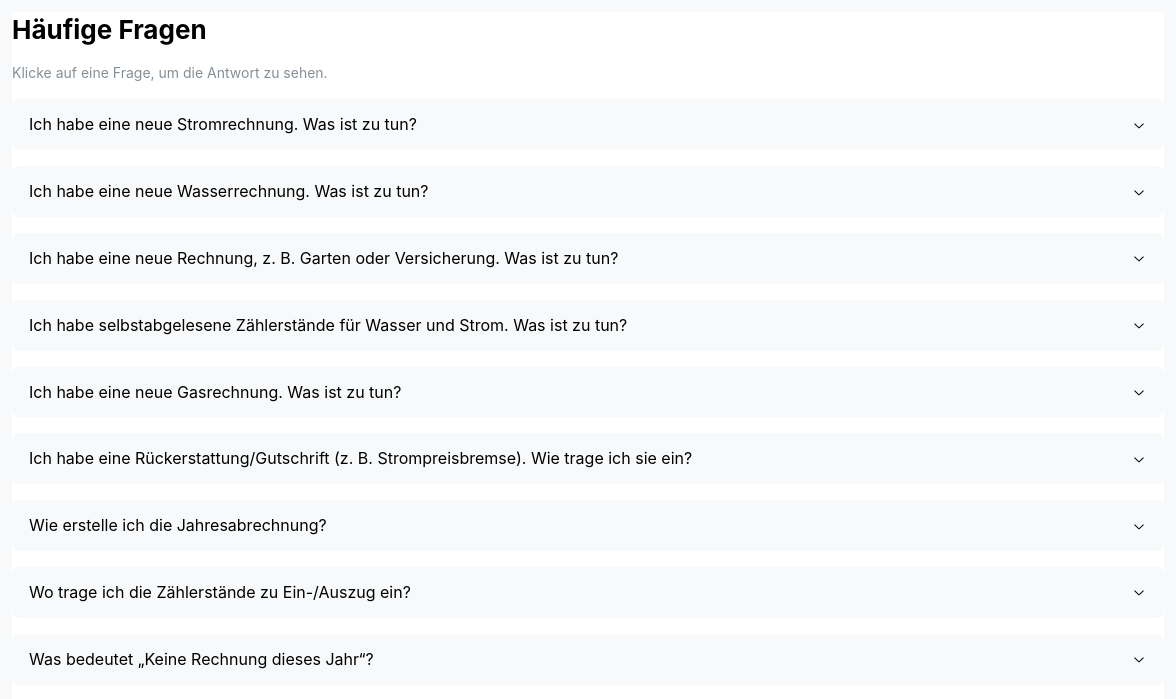
Scenario: FaqPage › zeigt die Fragen und klappt die Antwort per Klick auf
Expected: the text "Ich habe eine neue Stromrechnung. Was ist zu tun?" is shown, [29,114,417,134]
Expected: the text "Die Stromrechnung wird NICHT über" is not shown
Click the button "Ich habe eine neue Stromrechnung. Was ist zu tun?".
click(223, 124)  # box [13,100,1163,149]
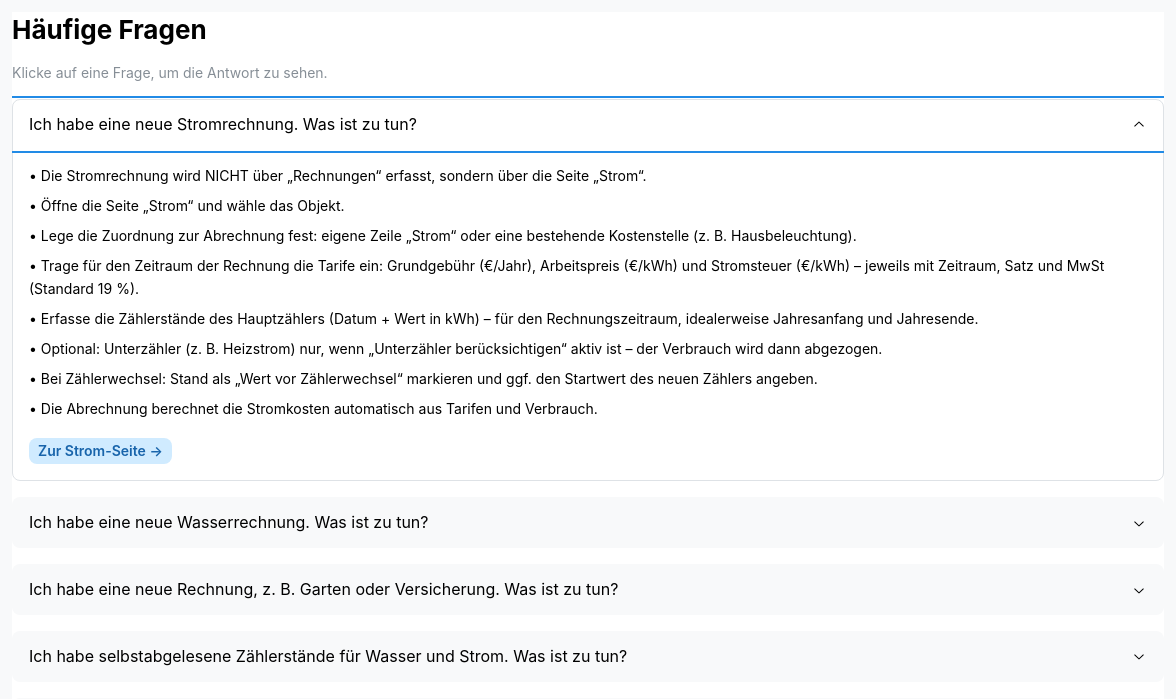
Expected: the text "Die Stromrechnung wird NICHT über „Rechnungen“ erfasst" is shown, [41,167,647,184]
